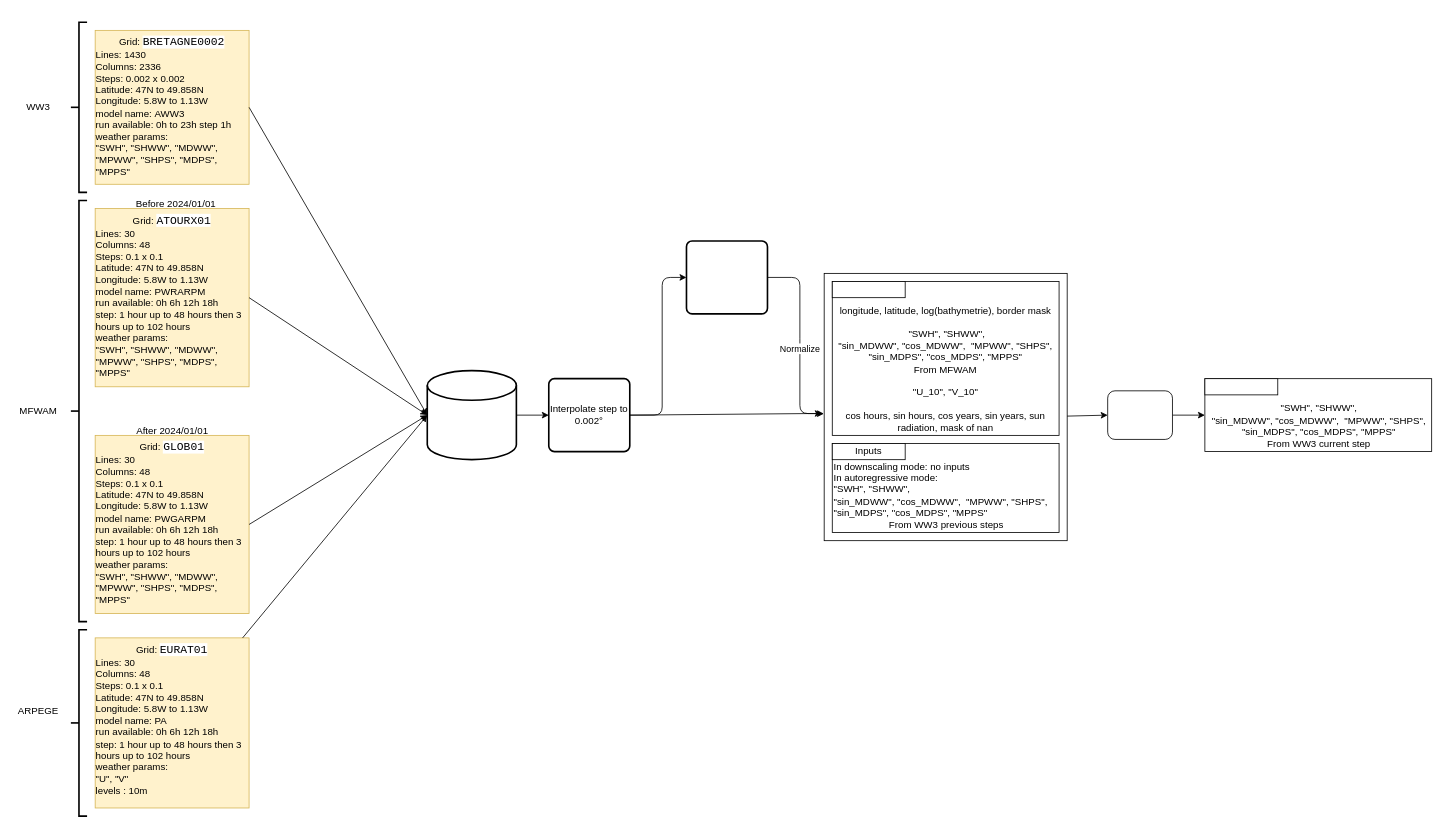
This 1446x830 diagram has some shape labels left out. The shapes that lost their labels are listed below. From the top down, each one's centre as x and y in pixels, then its label:
At point 726,277: "Compute statistiques: mean, std, diff_min, diff_std, min, max".
At point 868,289: "Forcings".
At point 1241,386: "Outputs".
At point 471,414: "BDAP".
At point 1139,414: "NN Model".
